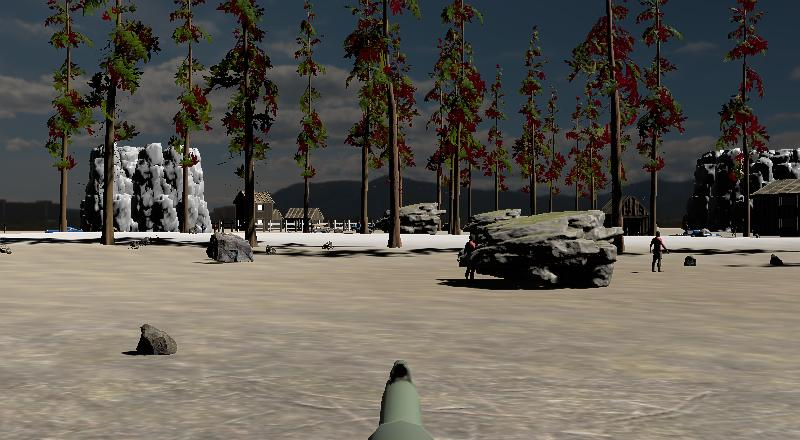Human: (648, 229, 670, 276), (463, 231, 479, 284)
